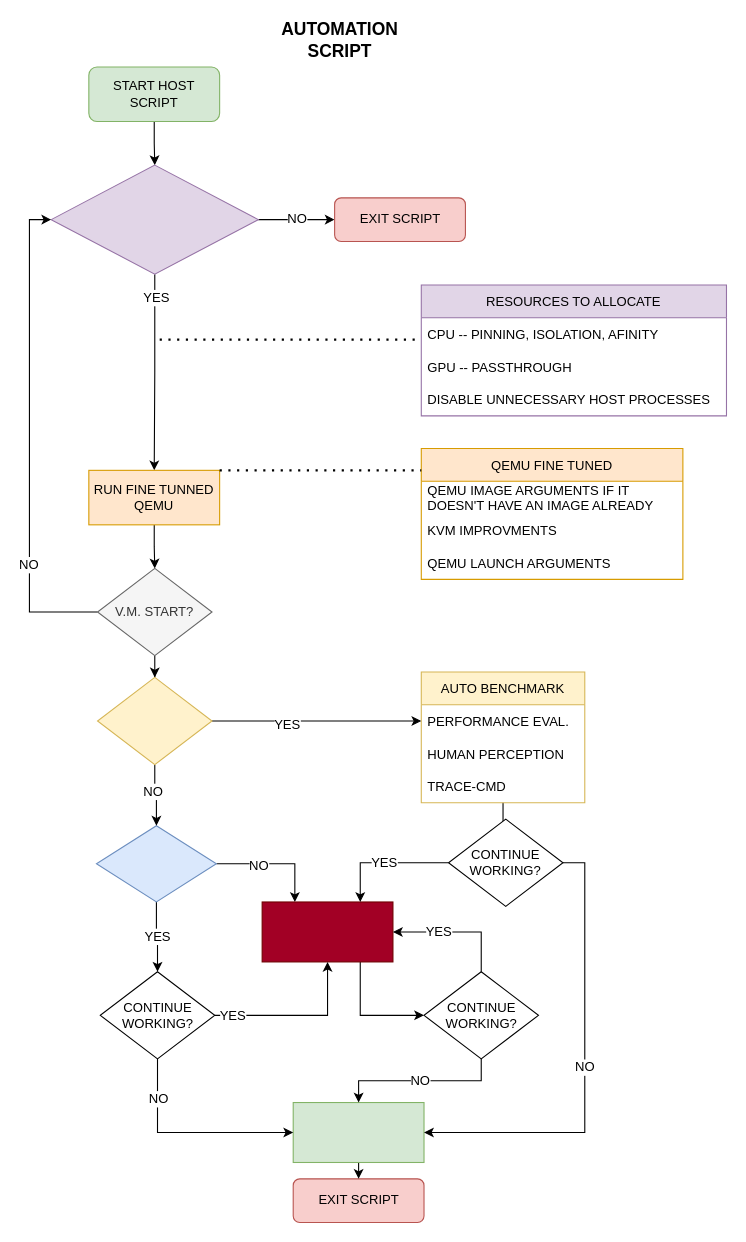
Image size: 746x1242. Some labels were removed from this diagram. Each missing label, with the centre of its shape:
ALLOCATE HOST RESOURCES TO GUEST?: the point at 154,219
BENCHMARK?: the point at 154,720
FREE HOST RESOURCES: the point at 358,1131
SNAPSHOT?: the point at 155,863
V.M. READY FOR WORK: the point at 327,931
